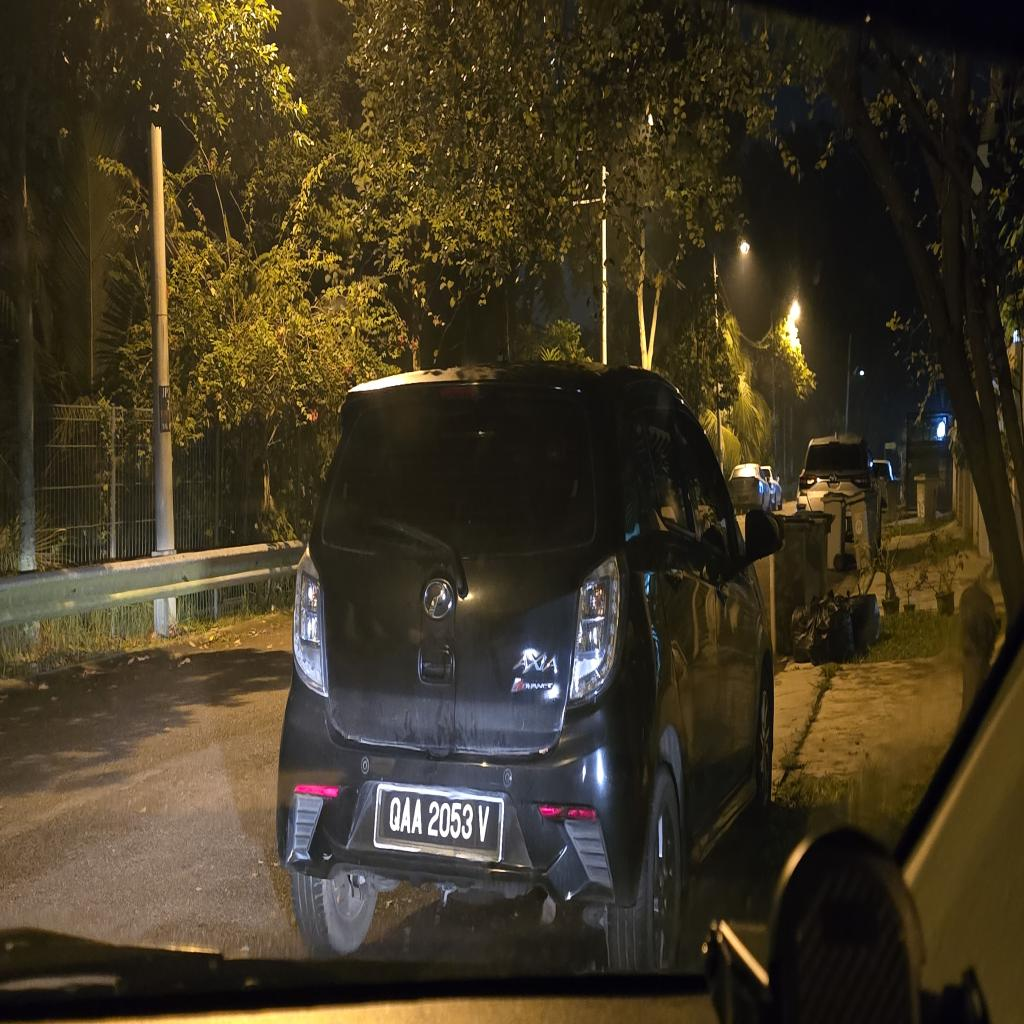car: (278, 364, 779, 969)
car plate: (374, 784, 503, 862)
